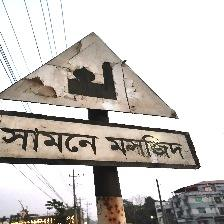Mosque in front: (0, 32, 196, 169)
